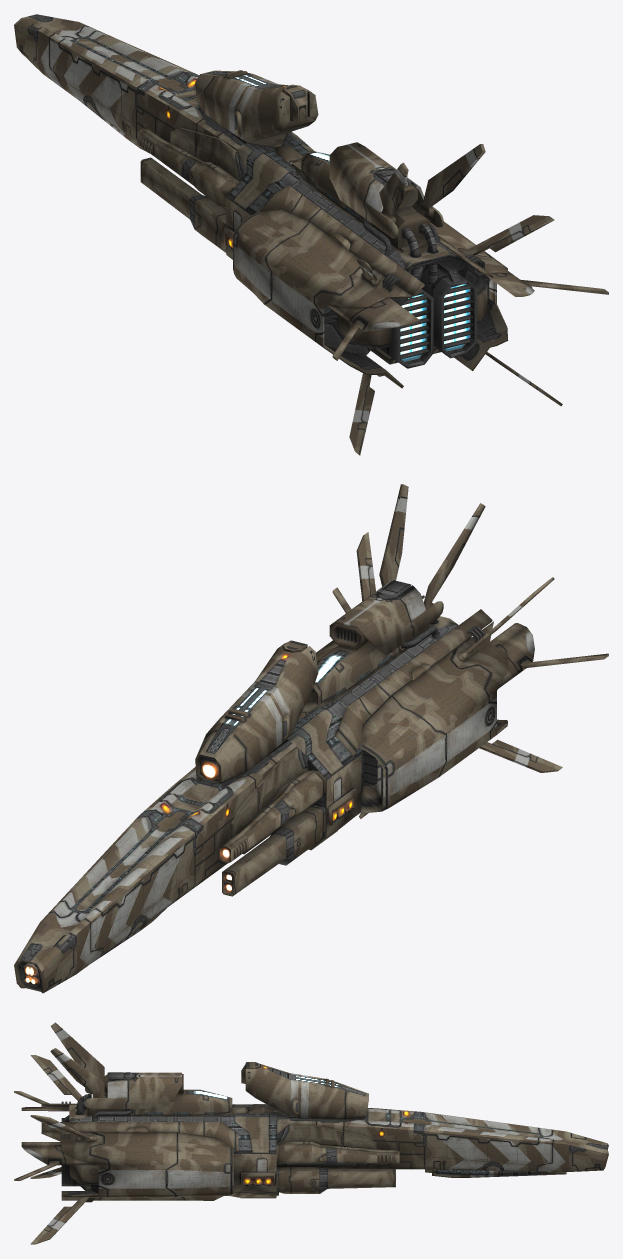
File: ion.glb
The picture shows the model from 3 angles, top to bottom: view 1: azimuth 30°, elevation 25°; view 2: azimuth 150°, elevation 25°; view 3: azimuth 270°, elevation 25°; orthographic projection. The views are drawn at different scales.
Parts seen in each view (by area): view 1: Object_2; view 2: Object_2; view 3: Object_2.
Part boxes in pixels (x1,y1,x2,y2): Object_2: (14,14,608,455); Object_2: (14,484,608,993); Object_2: (14,1022,608,1244).
Bounding box in the file's own units: 149 × 138 × 423.
1 material, 1 textured.
